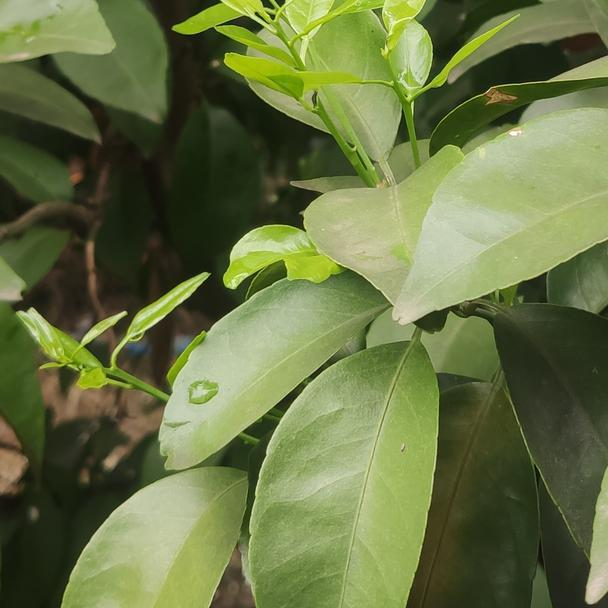shoot: (300, 4, 508, 143), (18, 282, 211, 399)
